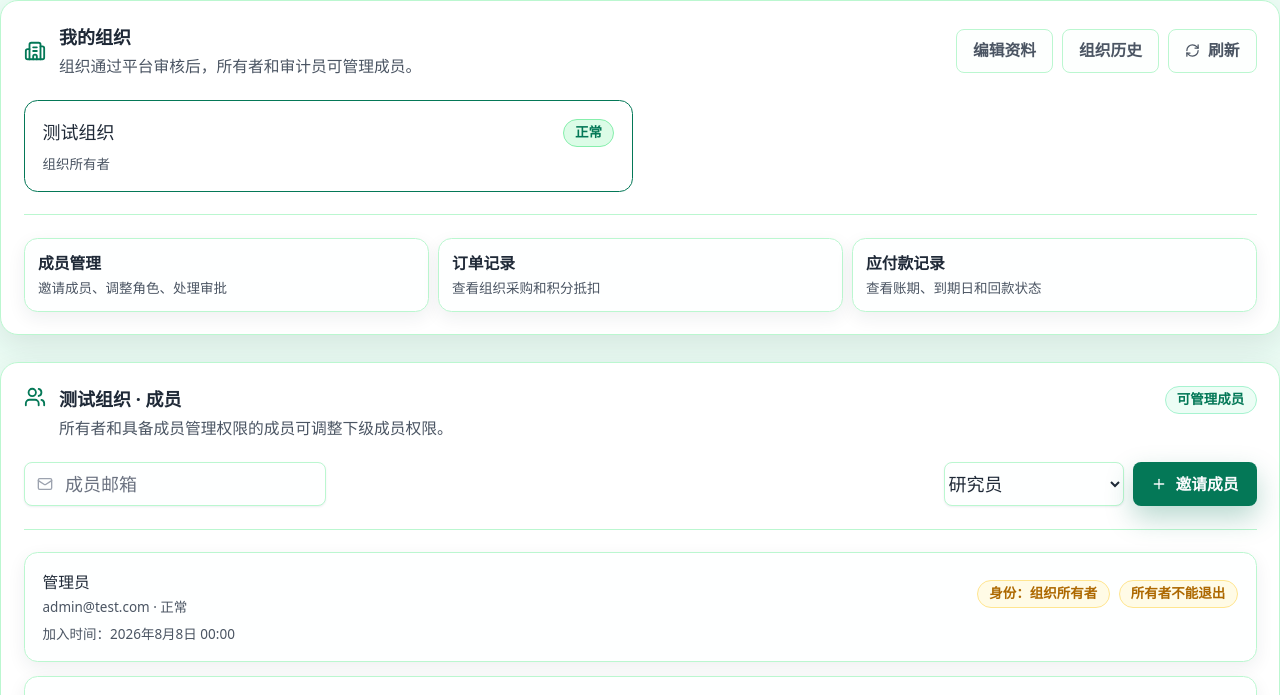
Test: OrganizationsPanel › 展示待确认成员的申请角色与邀请 ID，并将组织资料编辑入口放在我的组织区
Expected: the text "所有者和具备成员管理权限的成员可调整下级成员权限。" is shown, left=59, top=418, right=453, bottom=440
Expected: the text "身份：组织所有者" is shown, left=977, top=580, right=1110, bottom=608
Click the button "编辑资料": (1004, 50) left=956, top=28, right=1053, bottom=72
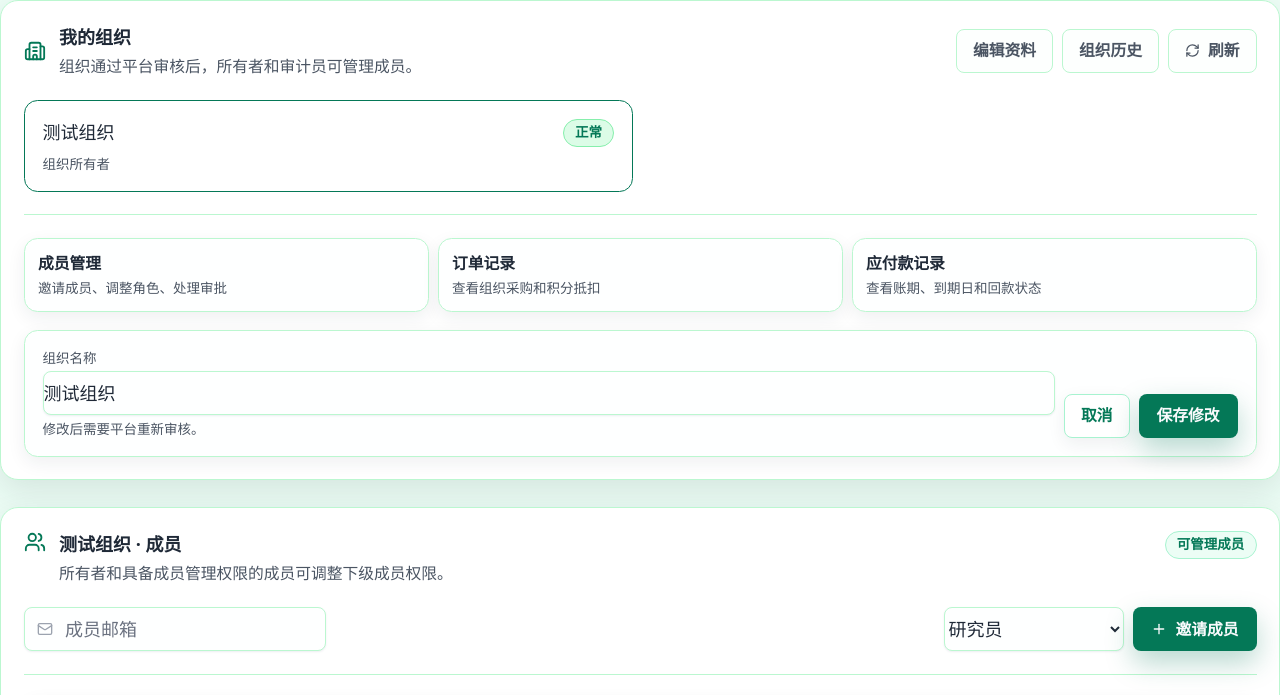
Result: the field labelled "组织名称" is shown at left=42, top=372, right=1055, bottom=416
